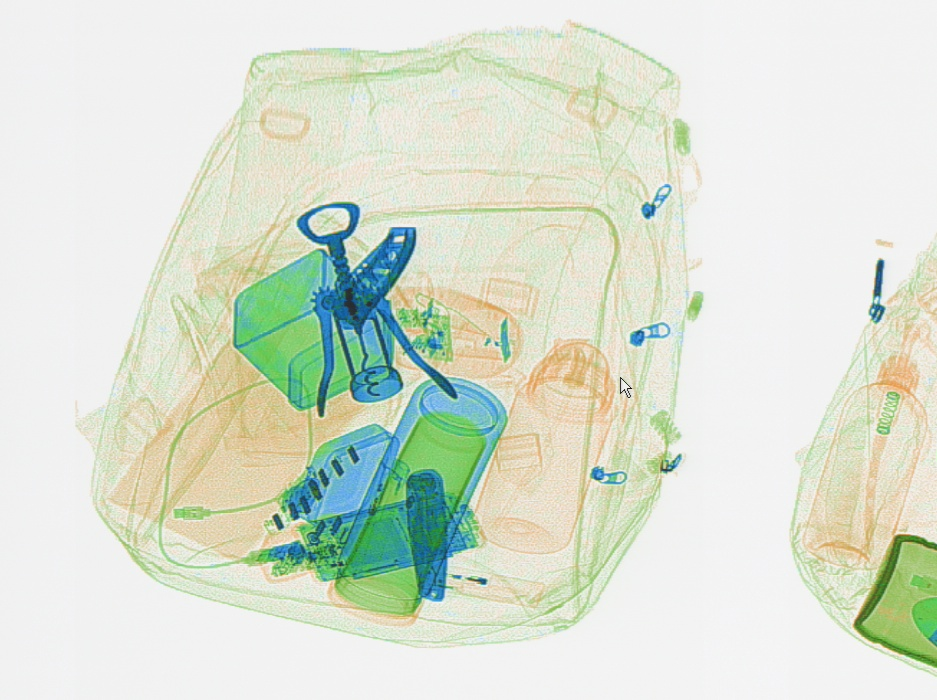knife: (317, 223, 421, 334), (404, 466, 451, 605)
lighter: (416, 560, 546, 609)
